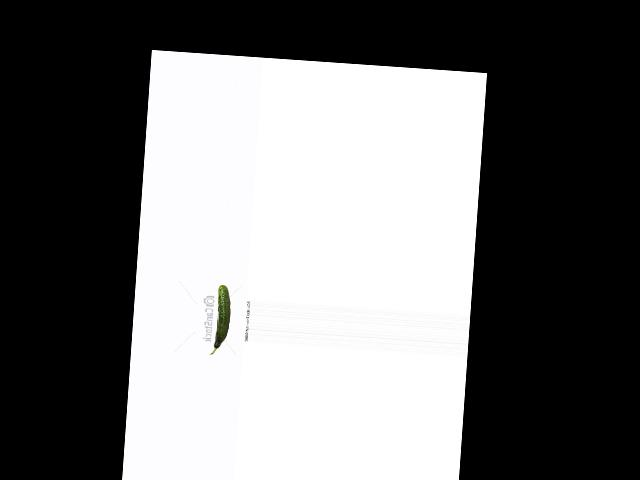cucumber: (210, 284, 232, 356)
